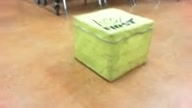cube: (72, 7, 156, 84)
